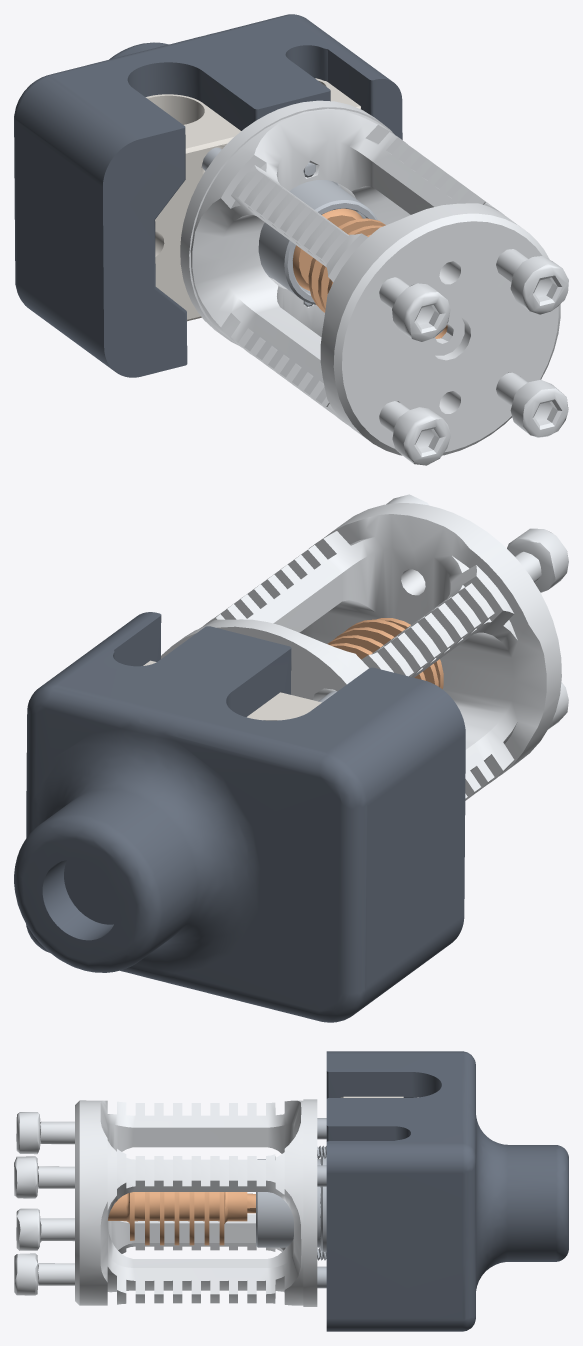
The picture shows the model from 3 angles, top to bottom: view 1: azimuth 30°, elevation 25°; view 2: azimuth 150°, elevation 25°; view 3: azimuth 270°, elevation 25°; orthographic projection. The views are drawn at different scales.
Visible parts, largest first — view 1: dragon_heatsink_19, dragon_silicone_sock_4, dragon_copper_block_20, dragon_heatbreak_12, dragon_m25_screw_5, dragon_m25_screw_18, dragon_m25_screw_11, dragon_m25_screw_17, dragon_heatbreak_8; view 2: dragon_silicone_sock_4, dragon_heatsink_19, dragon_m25_screw_17, dragon_heatbreak_8, dragon_copper_block_20; view 3: dragon_silicone_sock_4, dragon_heatsink_19, dragon_heatbreak_8, dragon_heatbreak_12, dragon_m25_screw_18, dragon_m25_screw_5, dragon_m25_screw_17, dragon_m25_screw_11.
Part boxes in pixels (x1,y1,x2,y2): dragon_heatsink_19: (180, 100, 560, 455); dragon_silicone_sock_4: (14, 14, 402, 377); dragon_copper_block_20: (145, 78, 360, 321); dragon_heatbreak_12: (258, 180, 377, 304); dragon_m25_screw_5: (496, 249, 568, 314); dragon_m25_screw_18: (496, 372, 568, 437); dragon_m25_screw_11: (379, 401, 450, 465); dragon_m25_screw_17: (379, 277, 450, 341); dragon_heatbreak_8: (293, 208, 447, 338); dragon_silicone_sock_4: (14, 612, 465, 1022); dragon_heatsink_19: (161, 503, 561, 800); dragon_m25_screw_17: (507, 528, 568, 592); dragon_heatbreak_8: (327, 618, 443, 689); dragon_copper_block_20: (143, 660, 321, 720); dragon_silicone_sock_4: (326, 1051, 568, 1331); dragon_heatsink_19: (75, 1099, 317, 1306); dragon_heatbreak_8: (108, 1192, 255, 1245); dragon_heatbreak_12: (256, 1157, 326, 1252); dragon_m25_screw_18: (14, 1253, 74, 1295); dragon_m25_screw_5: (14, 1156, 74, 1198); dragon_m25_screw_17: (16, 1112, 74, 1154); dragon_m25_screw_11: (16, 1208, 74, 1250).
Size of the model in its own units: 0.0292 by 0.0223 by 0.0595.
